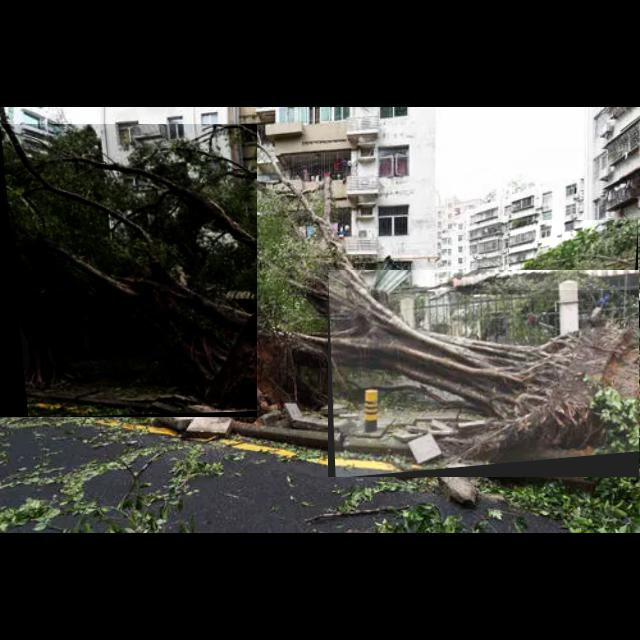Fallen Tree: (0, 124, 258, 418), (328, 270, 640, 478), (509, 220, 639, 290)
